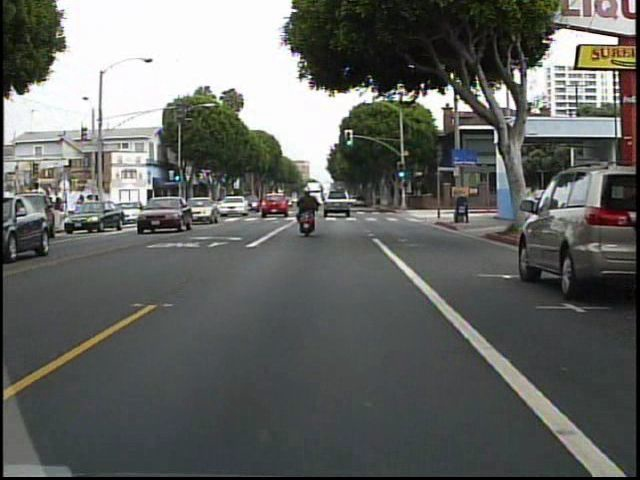person: (293, 183, 324, 239)
